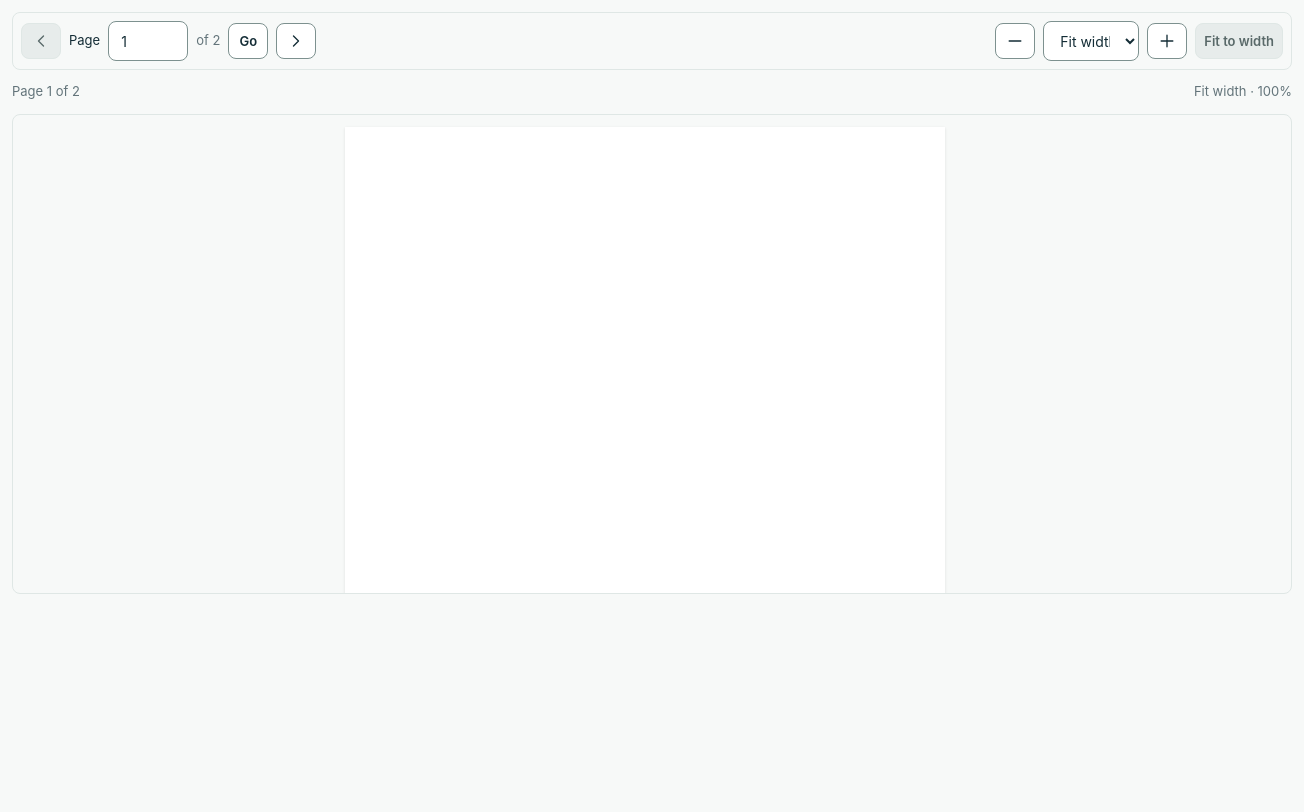
Test: PDF page reader › rejects invalid direct page entry "" without inventing a page
Clear the number field named "Page number" at (148, 41), box [108, 21, 188, 61]
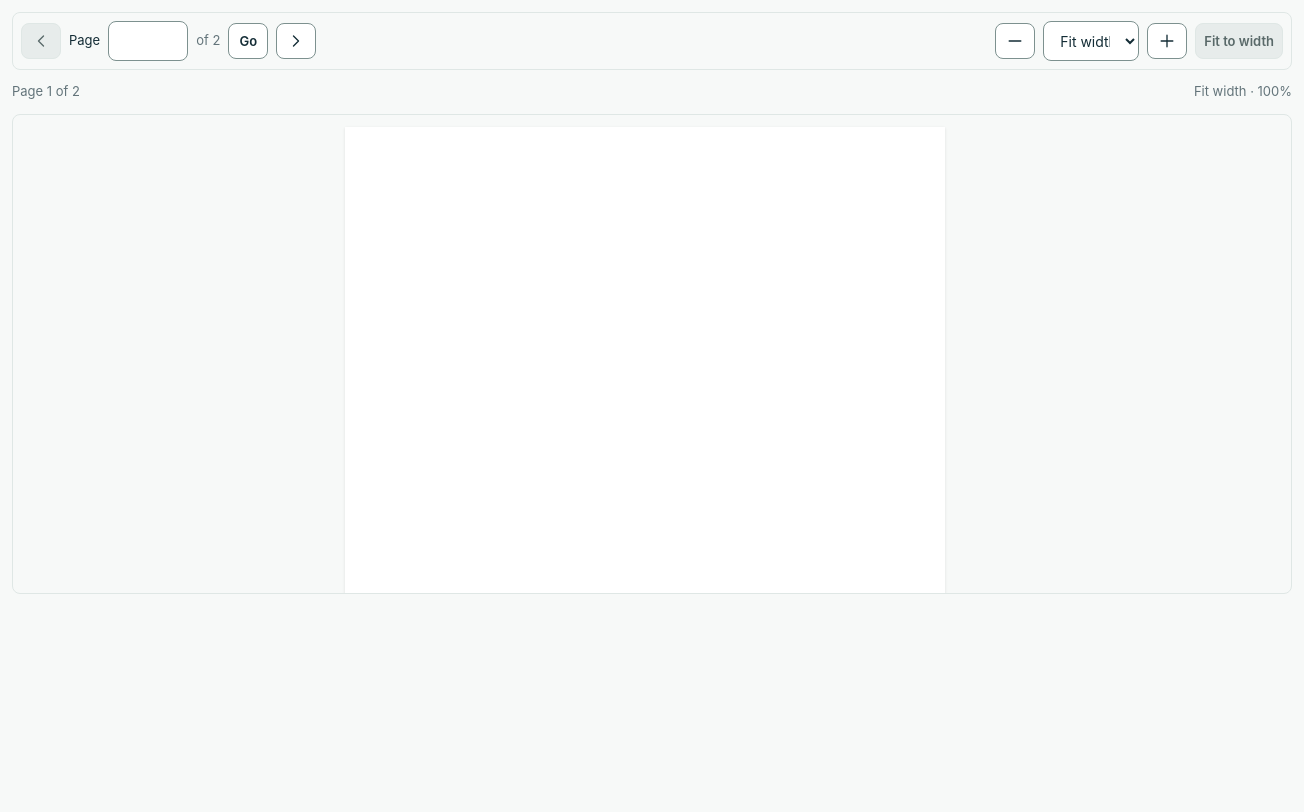
Click the button "Go" at (248, 41), box [228, 23, 268, 59]
(page scrolled)
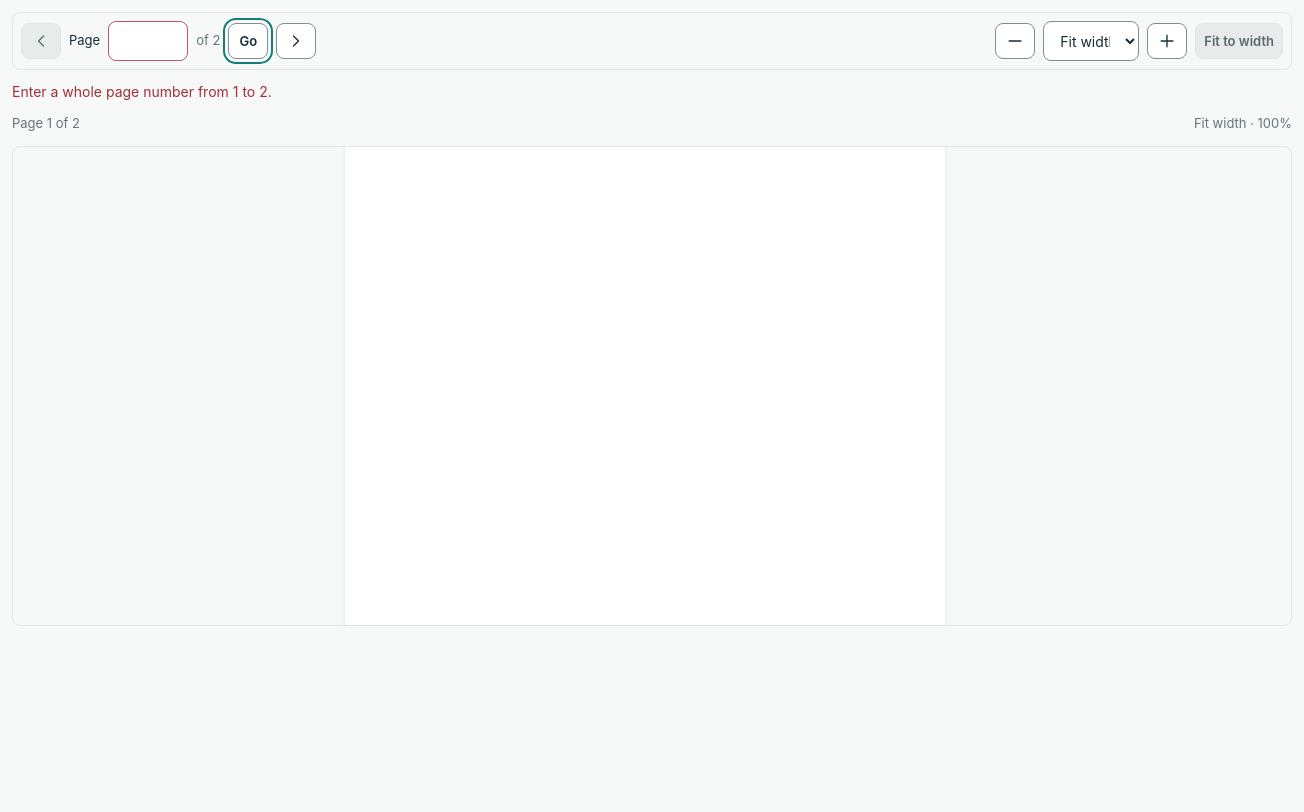
Check: the text "Page 1 of 2" is shown, box [12, 114, 80, 134]
Check: the message reads "Enter a whole page number from 1 to 2.", box [12, 83, 272, 100]
